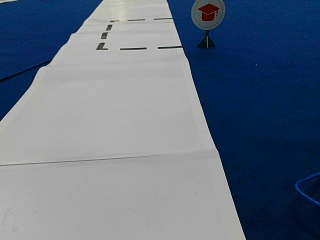school: (190, 1, 225, 29)
